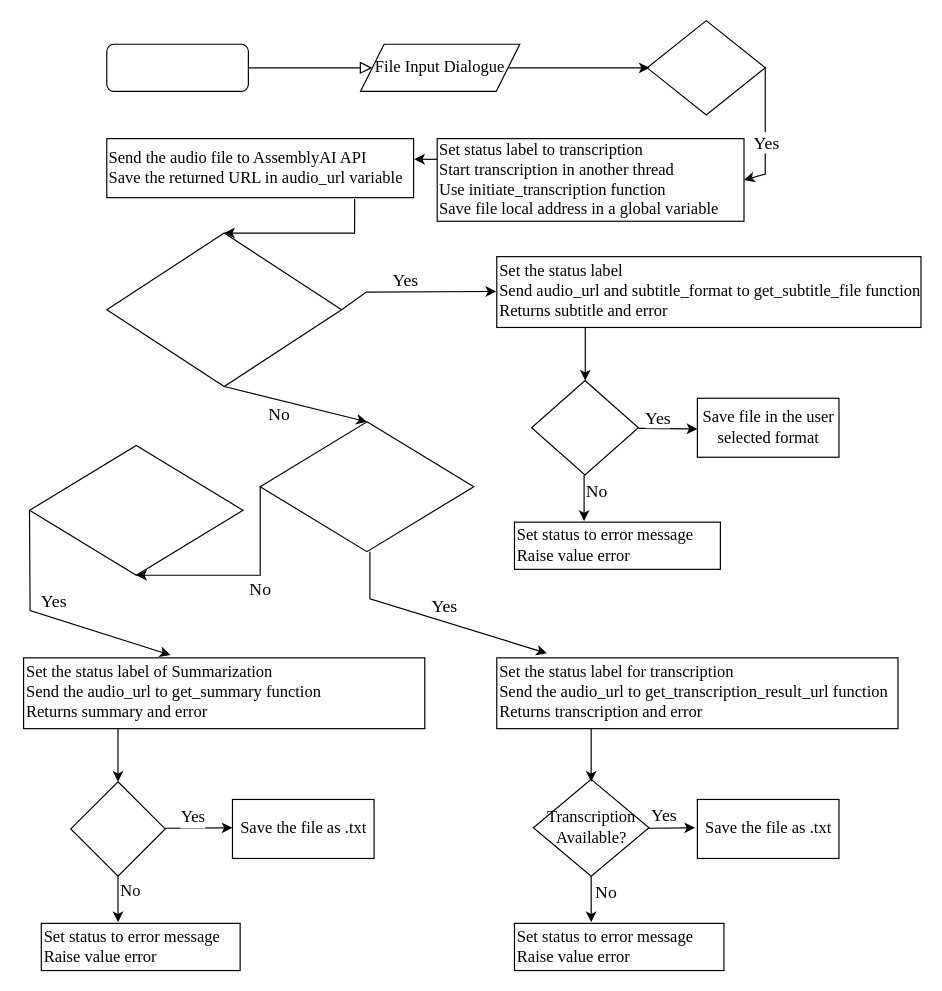
This 942x991 diagram has some shape labels left out. Each missing label, with the box of its shape:
File Selected?: (646, 19, 765, 115)
File Upload Button: (106, 43, 248, 91)
Subtitle Available?: (530, 379, 638, 475)
Subtitle format is non and is_summarization is false: (259, 421, 474, 552)
Subtitle format is non and is_summarization is true: (28, 444, 243, 575)
Subtitle format is not non and is_summarization is false: (106, 232, 342, 386)
Summary Available?: (70, 781, 165, 876)
